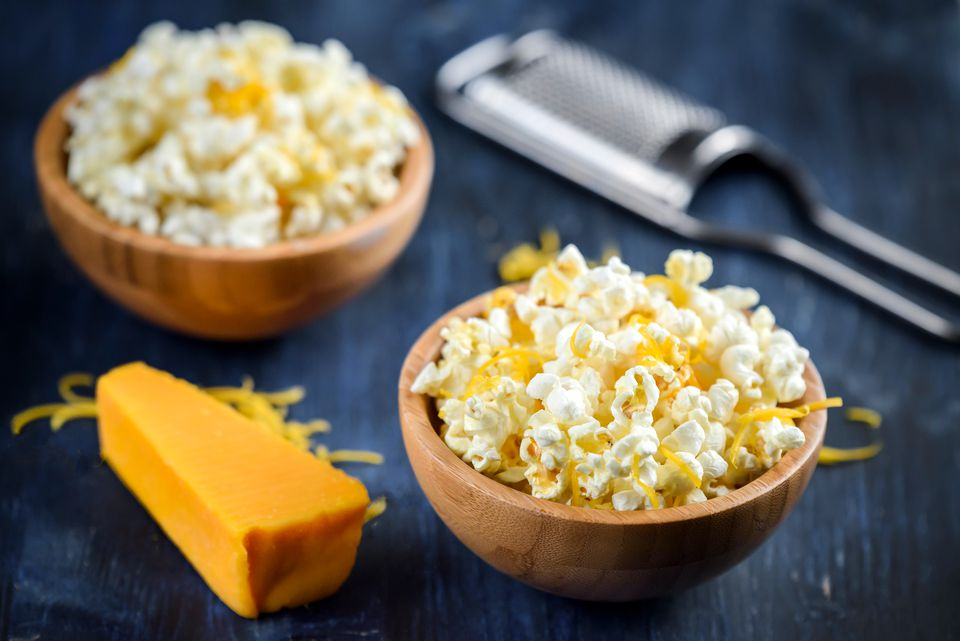cheese: (82, 349, 378, 606), (485, 229, 583, 289)
